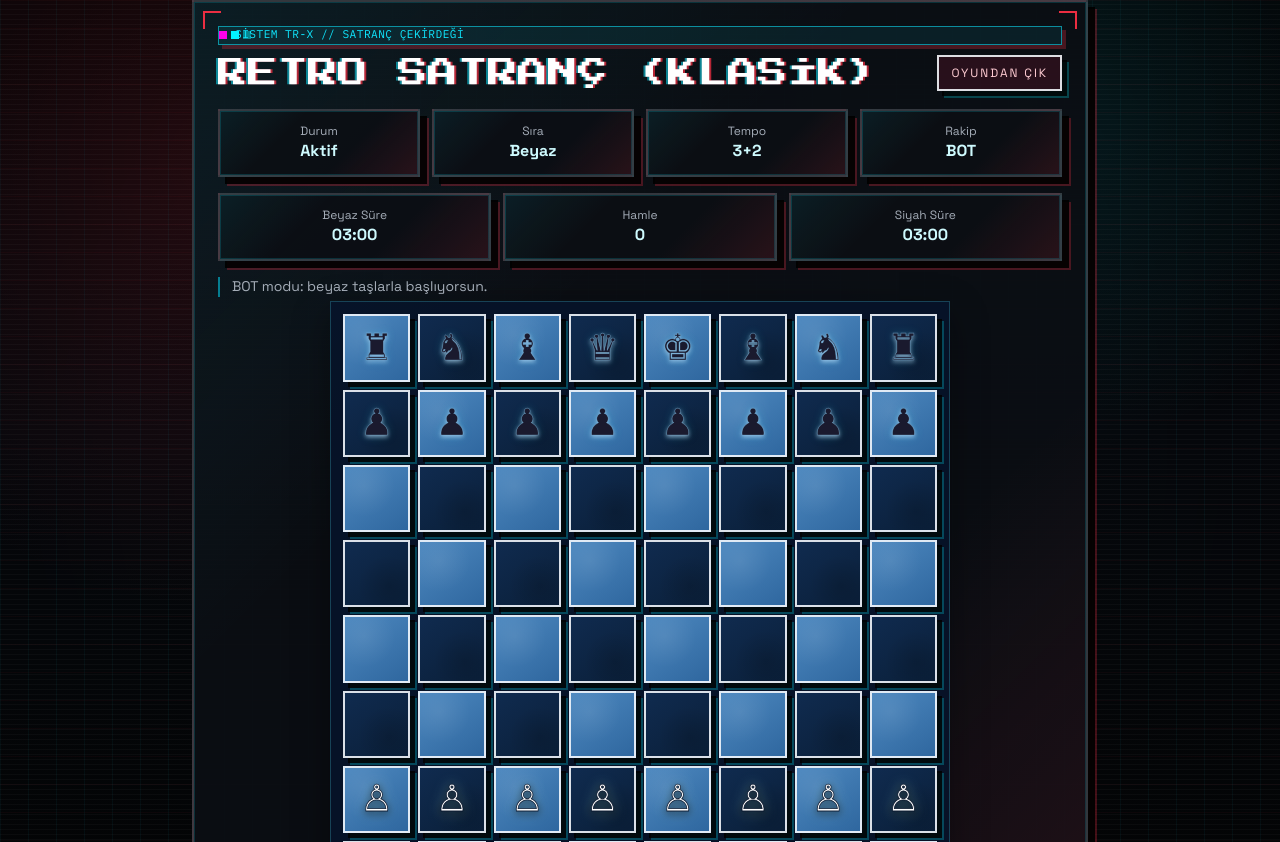
it: RetroChess (classic) › prevents selecting black pieces in bot mode
This screenshot has width=1280, height=842.
Click the button with test id "retro-chess-square-e7".
click(678, 423)  # box x1=644 y1=390 x2=711 y2=457
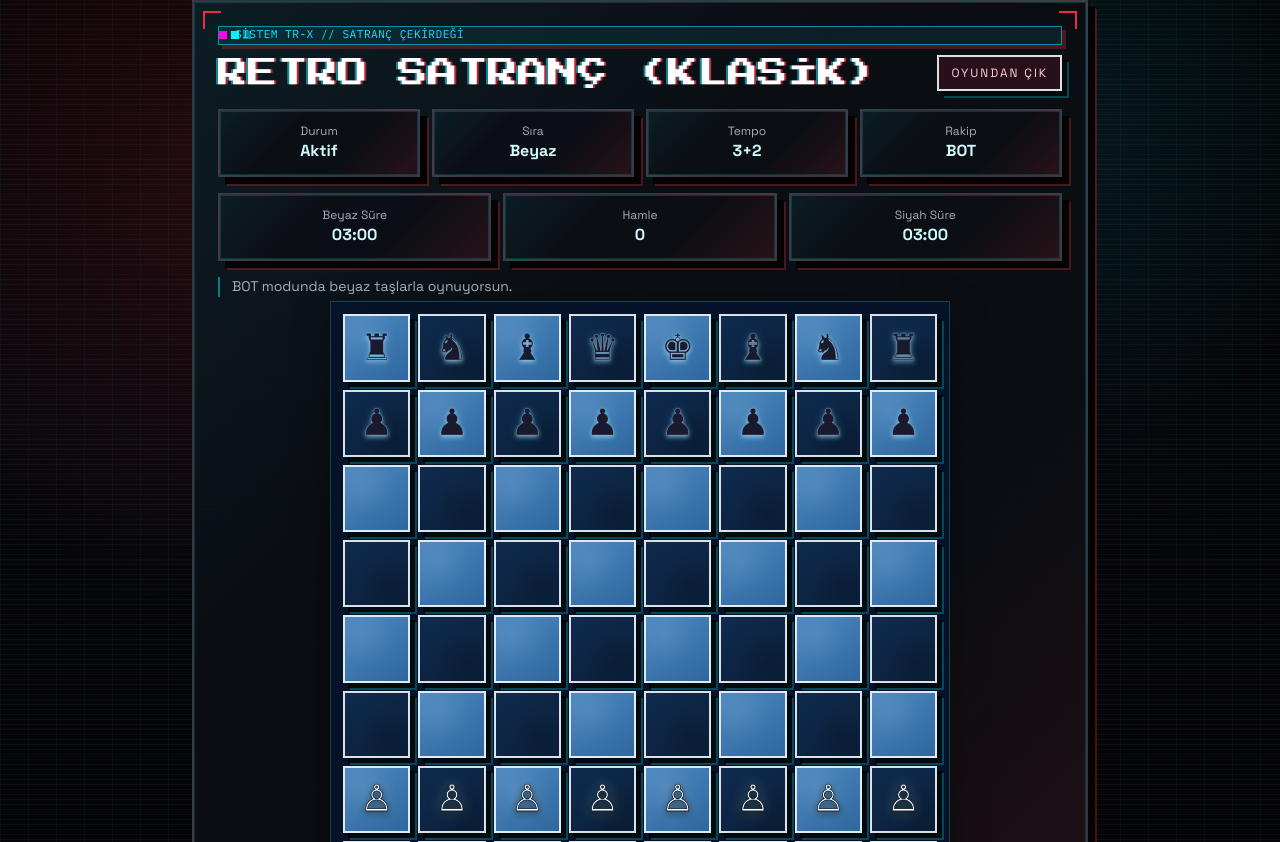
Now the text "BOT modunda beyaz taşlarla oynuyorsun." is shown, box x1=218 y1=277 x2=1062 y2=297
